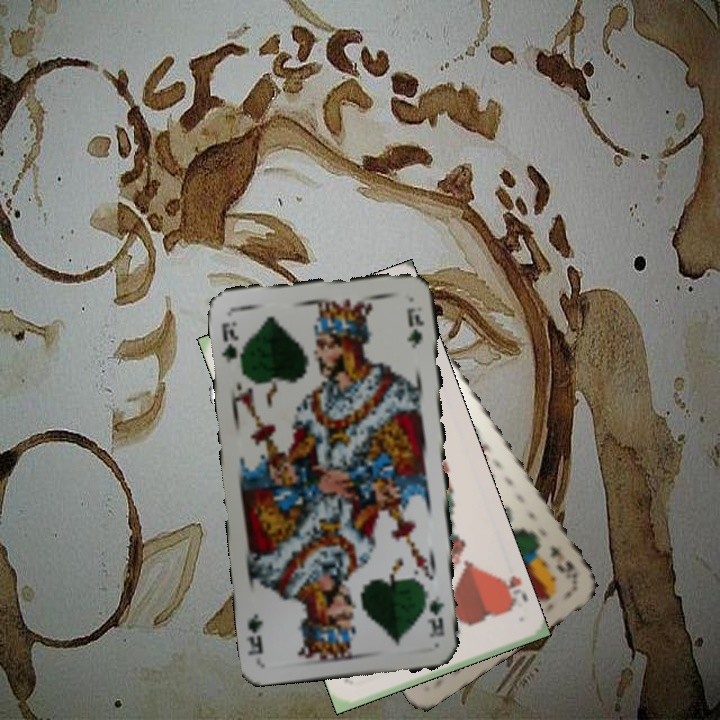EK: (546, 541, 578, 580)
GK: (217, 317, 241, 366), (427, 592, 447, 639)
HO: (491, 571, 529, 614)
